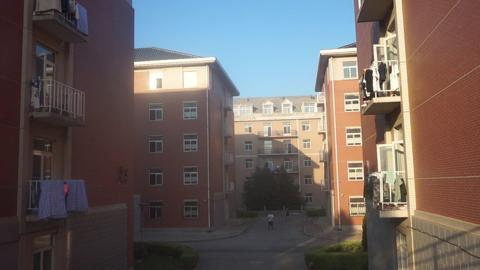UAV: (228, 150, 234, 154)
